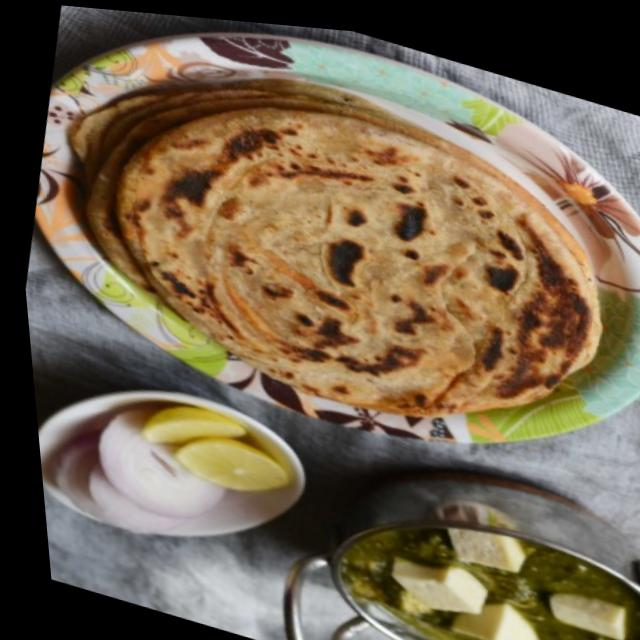CURRY: (344, 524, 640, 640)
PAROTTA: (69, 79, 617, 416)
